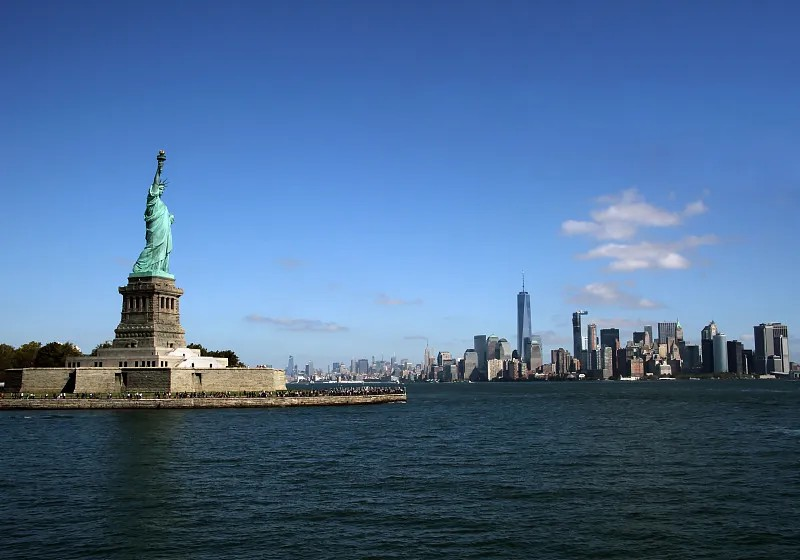SL: (112, 149, 187, 348)
